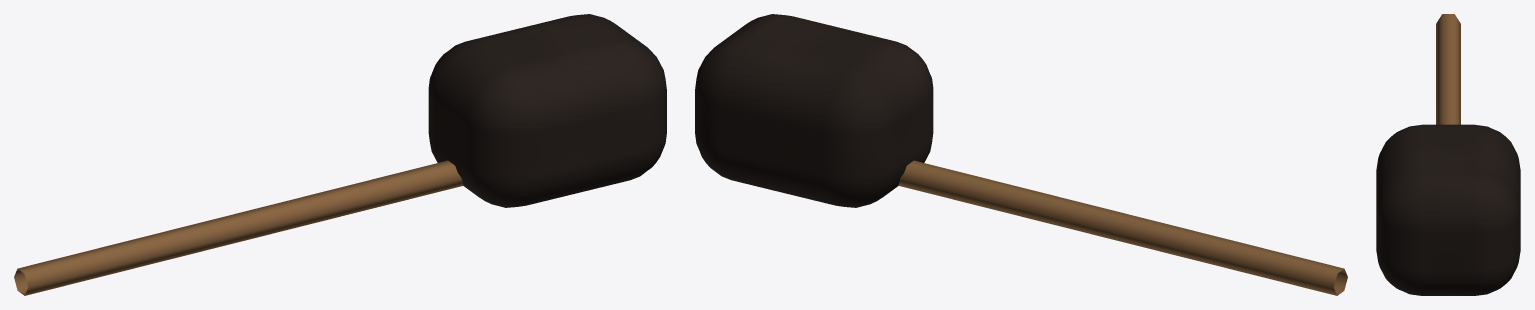
File: item_ic_marsh_burnt.glb
The picture shows the model from 3 angles, left to right: view 1: azimuth 30°, elevation 25°; view 2: azimuth 150°, elevation 25°; view 3: azimuth 270°, elevation 25°; orthographic projection. The views are drawn at different scales.
Parts seen in each view (by area): view 1: item_ic_marsh_burnt_main; view 2: item_ic_marsh_burnt_main; view 3: item_ic_marsh_burnt_main.
Boxes of the visible parts, x1=… form: item_ic_marsh_burnt_main: x1=14, y1=14, x2=666, y2=295; item_ic_marsh_burnt_main: x1=695, y1=14, x2=1347, y2=295; item_ic_marsh_burnt_main: x1=1376, y1=14, x2=1520, y2=295.
Bounding box in the file's own units: 0.305 × 0.064 × 0.07.
